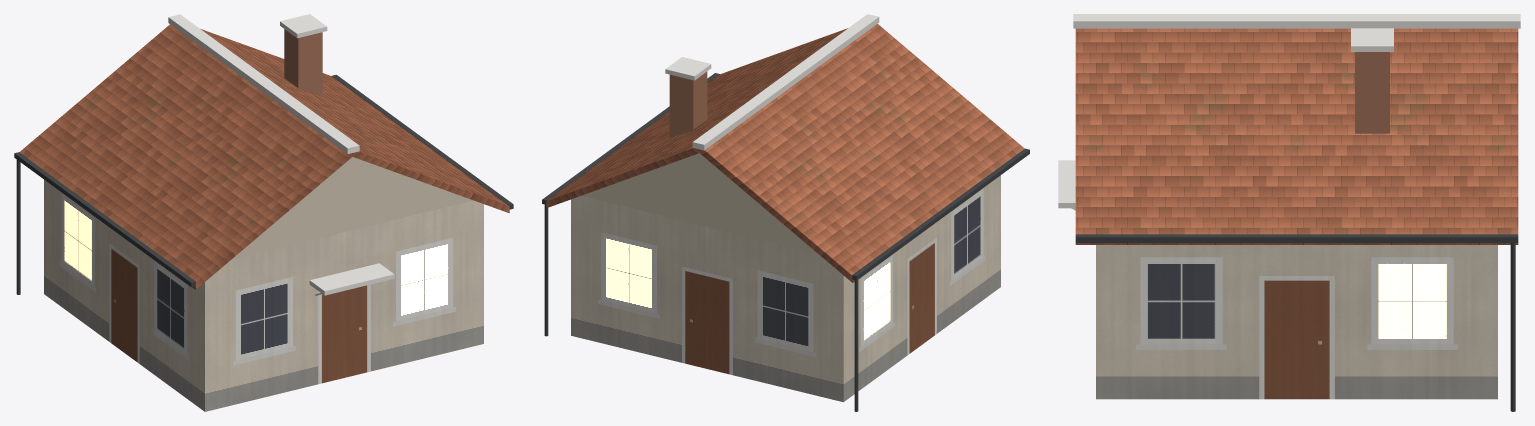
File: small_house_fractured.glb
3 renders of one model, left to right at view 1: azimuth 30°, elevation 25°; view 2: azimuth 150°, elevation 25°; view 3: azimuth 270°, elevation 25°, orthographic. The views are drawn at different scales.
Visible parts, largest first — view 1: chunk_030, chunk_032, chunk_002, chunk_029, chunk_004, chunk_003, chunk_005, chunk_013, chunk_019, chunk_011, chunk_023, chunk_020 (+15 smaller); view 2: chunk_032, chunk_030, chunk_008, chunk_007, chunk_010, chunk_029, chunk_006, chunk_013, chunk_021, chunk_011, chunk_009, chunk_022 (+15 smaller); view 3: chunk_025, chunk_023, chunk_024, chunk_016, chunk_017, chunk_026, chunk_018, chunk_015, chunk_035, chunk_027, chunk_037, chunk_010 (+4 smaller).
Part boxes in pixels (x1=…): chunk_030: x1=90, y1=101, x2=341, y2=226; chunk_032: x1=19, y1=24, x2=206, y2=203; chunk_002: x1=199, y1=243, x2=319, y2=394; chunk_029: x1=121, y1=150, x2=352, y2=289; chunk_004: x1=320, y1=200, x2=483, y2=316; chunk_003: x1=297, y1=238, x2=399, y2=383; chunk_005: x1=380, y1=232, x2=483, y2=369; chunk_013: x1=50, y1=184, x2=140, y2=344; chunk_019: x1=232, y1=157, x2=369, y2=259; chunk_011: x1=146, y1=255, x2=198, y2=407; chunk_023: x1=370, y1=136, x2=509, y2=213; chunk_020: x1=366, y1=161, x2=472, y2=225; chunk_032: x1=699, y1=124, x2=920, y2=282; chunk_030: x1=807, y1=28, x2=950, y2=224; chunk_008: x1=650, y1=219, x2=770, y2=359; chunk_007: x1=671, y1=286, x2=849, y2=402; chunk_010: x1=571, y1=195, x2=652, y2=355; chunk_029: x1=872, y1=24, x2=1024, y2=202; chunk_006: x1=762, y1=242, x2=849, y2=379; chunk_013: x1=849, y1=221, x2=937, y2=357; chunk_021: x1=684, y1=153, x2=816, y2=252; chunk_011: x1=944, y1=180, x2=994, y2=316; chunk_009: x1=614, y1=204, x2=679, y2=318; chunk_022: x1=582, y1=156, x2=689, y2=220; chunk_025: x1=1268, y1=28, x2=1518, y2=244; chunk_023: x1=1075, y1=46, x2=1280, y2=244; chunk_024: x1=1075, y1=28, x2=1322, y2=183; chunk_016: x1=1111, y1=245, x2=1340, y2=383; chunk_017: x1=1272, y1=245, x2=1414, y2=399; chunk_026: x1=1335, y1=88, x2=1518, y2=244; chunk_018: x1=1383, y1=245, x2=1482, y2=399; chunk_015: x1=1111, y1=260, x2=1278, y2=399; chunk_035: x1=1073, y1=14, x2=1520, y2=28; chunk_027: x1=1075, y1=234, x2=1518, y2=242; chunk_037: x1=1351, y1=28, x2=1393, y2=96; chunk_010: x1=1483, y1=245, x2=1497, y2=399.
Bounding box in the file's own units: 9.24 × 7.01 × 9.2.
7 materials, 2 textured.
